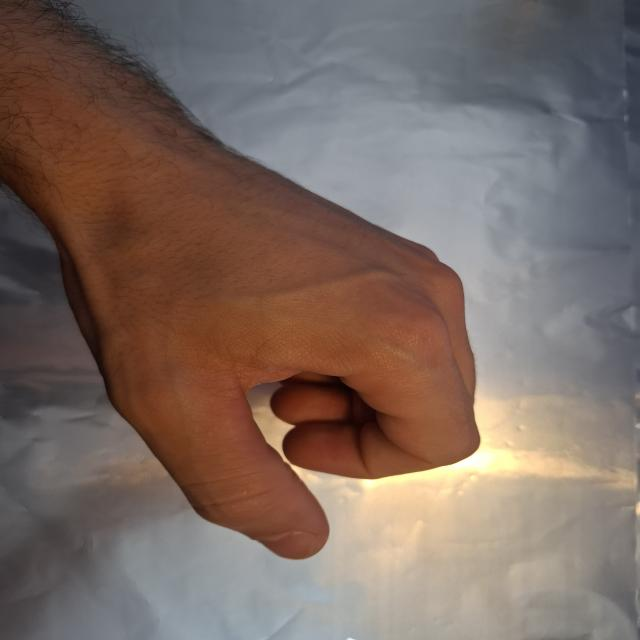glove_off: (47, 129, 483, 562)
